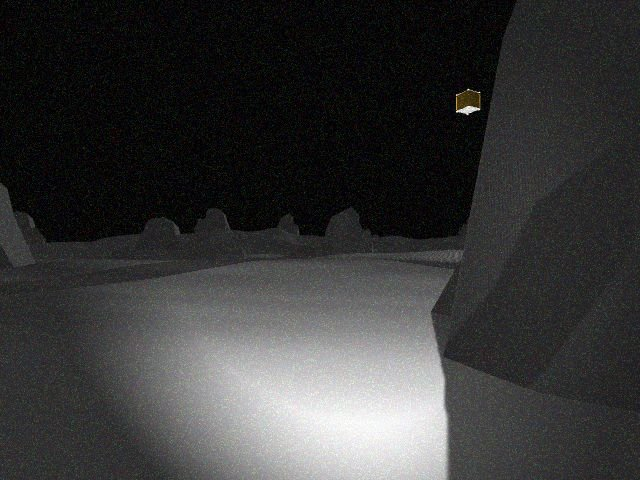cubesat: (443, 87, 487, 114)
